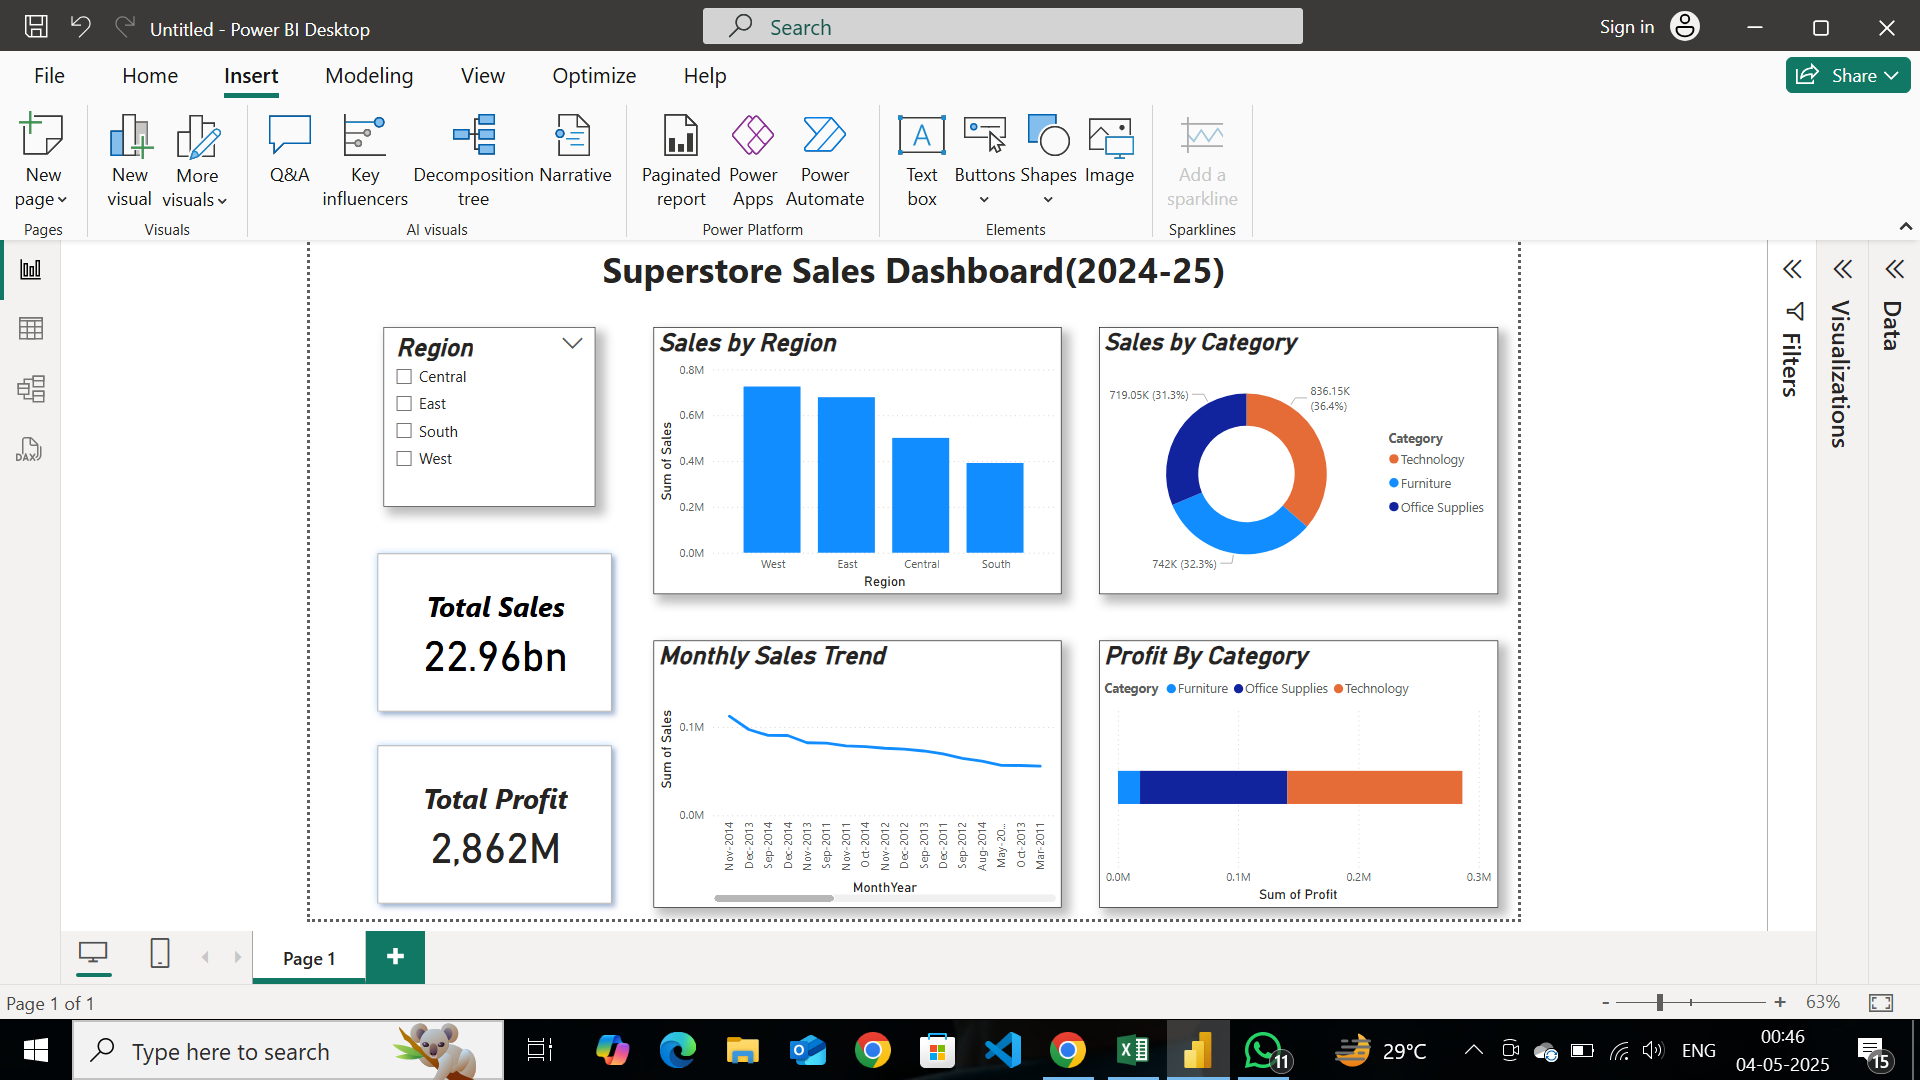

Layout of this report page (visuals, bound fields, positions):
{"tool":"powerbi","page":{"name":"Page 1","canvas":[1280,720],"ordinal":0},"visuals":[{"type":"lineChart","title":"Monthly Sales Trend","fields":{"Category":["Superstore.MonthYear"],"Y":["Sum(Superstore.Sales)"]},"box":[364.7,425.2,432.8,283.5],"z":0},{"type":"columnChart","title":"Sales by Region","fields":{"Category":["Superstore.Region"],"Y":["Sum(Superstore.Sales)"]},"box":[364.7,92.6,432.8,283.5],"z":1},{"type":"donutChart","title":"Sales by Category","fields":{"Category":["Superstore.Category"],"Y":["Sum(Superstore.Sales)"]},"box":[837.2,92.6,423.3,283.5],"z":2},{"type":"slicer","fields":{"Values":["Superstore.Region"]},"box":[77.5,92.6,224.9,190.9],"z":3},{"type":"cardVisual","fields":{"Data":["Sum(Superstore.Total Profit)"]},"box":[54.8,517.8,283.5,202.2],"z":4},{"type":"cardVisual","fields":{"Data":["Sum(Superstore.Total Sales)"]},"box":[54.8,315.6,283.5,202.2],"z":5},{"type":"barChart","title":"Profit By Category","fields":{"Y":["Sum(Superstore.Profit)"],"Series":["Superstore.Category"]},"box":[837.2,425.2,423.3,283.5],"z":6},{"type":"textbox","box":[100.2,0,1081,75.6],"z":7}]}

Visuals, with their boxes on the page's 1280x720 design canvas (x1, y1, x2, y2). These are canvas units, not pixel positions in the 1920x1080 screenshot, which may show the page scaled, cropped or inside an application window:
"Monthly Sales Trend" lineChart: (x1=365, y1=425, x2=798, y2=709)
"Sales by Region" columnChart: (x1=365, y1=93, x2=798, y2=376)
"Sales by Category" donutChart: (x1=837, y1=93, x2=1260, y2=376)
slicer - Superstore.Region: (x1=78, y1=93, x2=302, y2=284)
cardVisual - Sum(Superstore.Total Profit): (x1=55, y1=518, x2=338, y2=720)
cardVisual - Sum(Superstore.Total Sales): (x1=55, y1=316, x2=338, y2=518)
"Profit By Category" barChart: (x1=837, y1=425, x2=1260, y2=709)
textbox: (x1=100, y1=0, x2=1181, y2=76)
